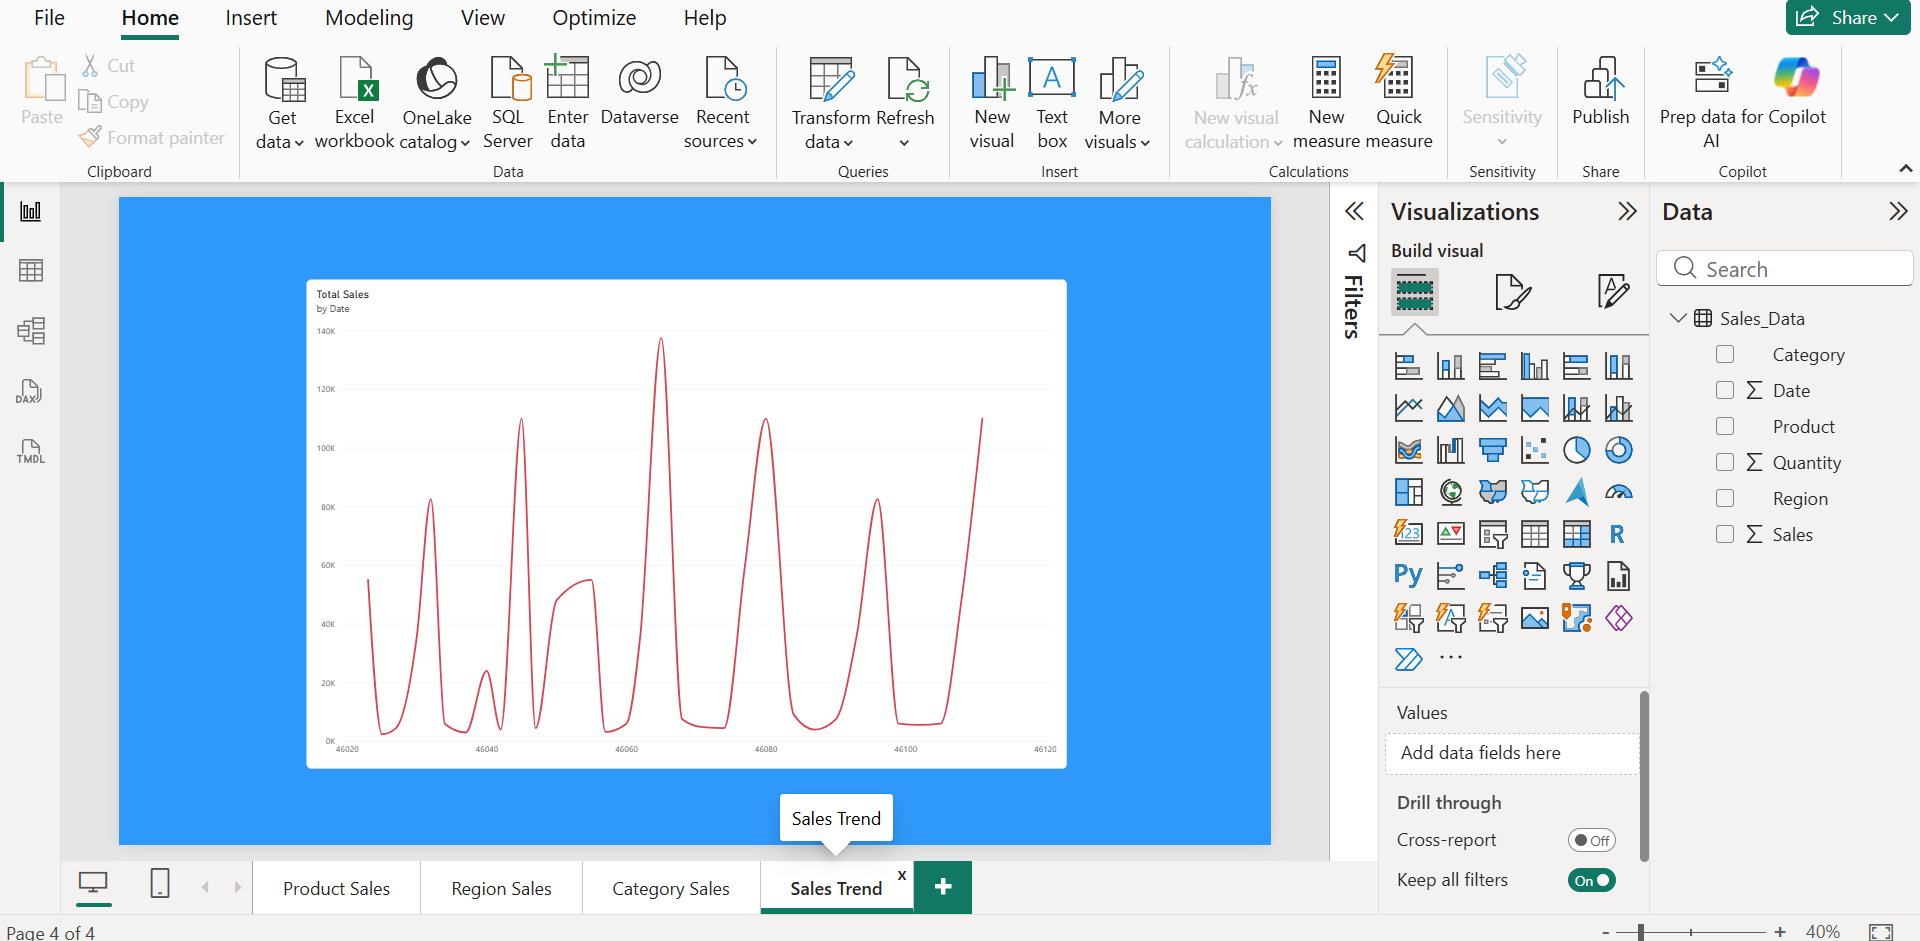

The dashboard page shown, as its layout file describes it:
{"tool":"powerbi","page":{"name":"Sales Trend","canvas":[1920,1080],"ordinal":3},"visuals":[{"type":"lineChart","fields":{"Category":["Sales_Data.Date"],"Y":["Sum(Sales_Data.Sales)"]},"box":[312.5,137.5,1267.5,815],"z":0}]}

Visuals, with their boxes on the page's 1920x1080 design canvas (x1, y1, x2, y2). These are canvas units, not pixel positions in the 1920x941 screenshot, which may show the page scaled, cropped or inside an application window:
lineChart - Sales_Data.Date x Sum(Sales_Data.Sales): bbox(312, 138, 1580, 952)
